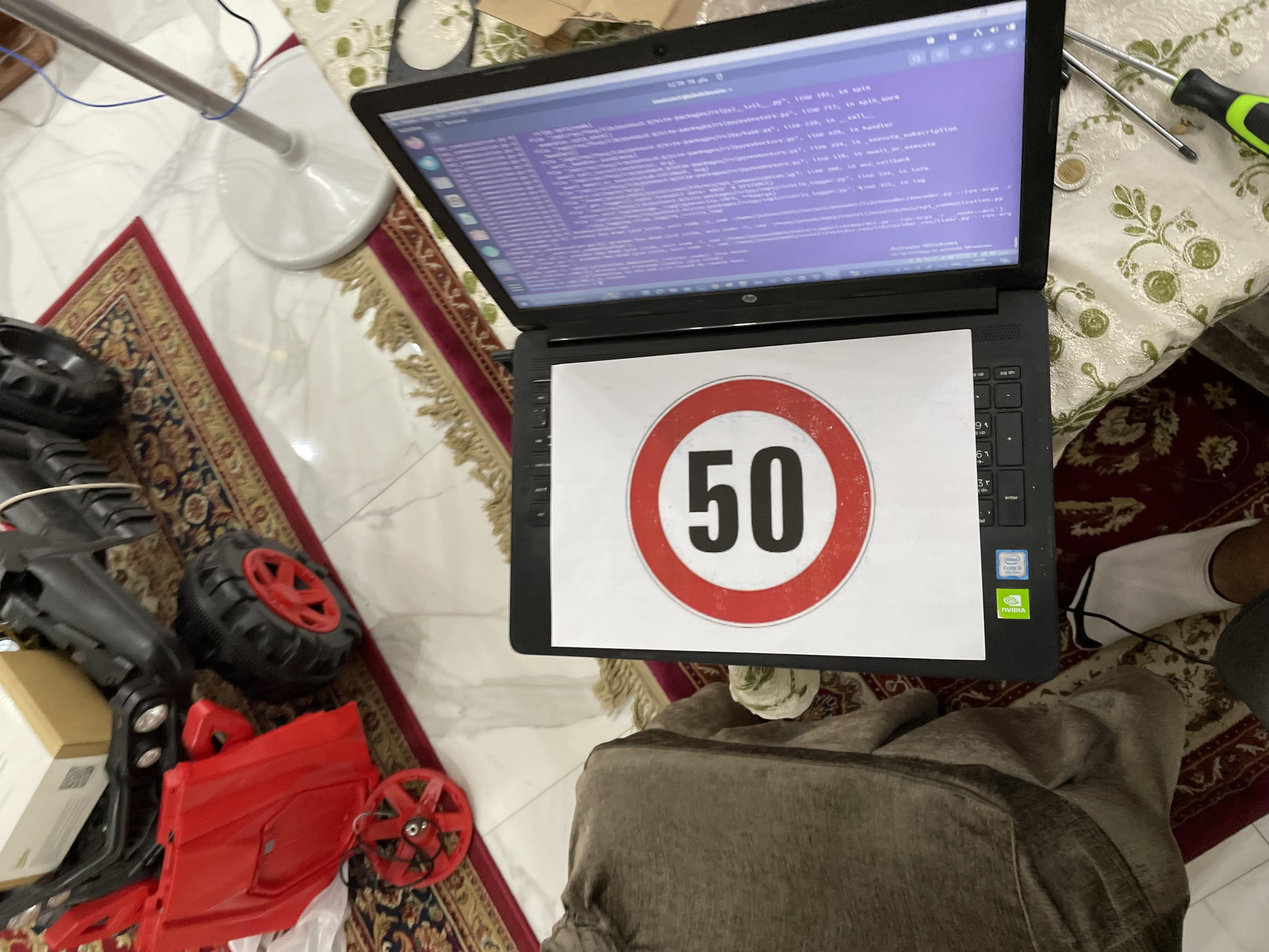50-Speed: (446, 466, 774, 657)
